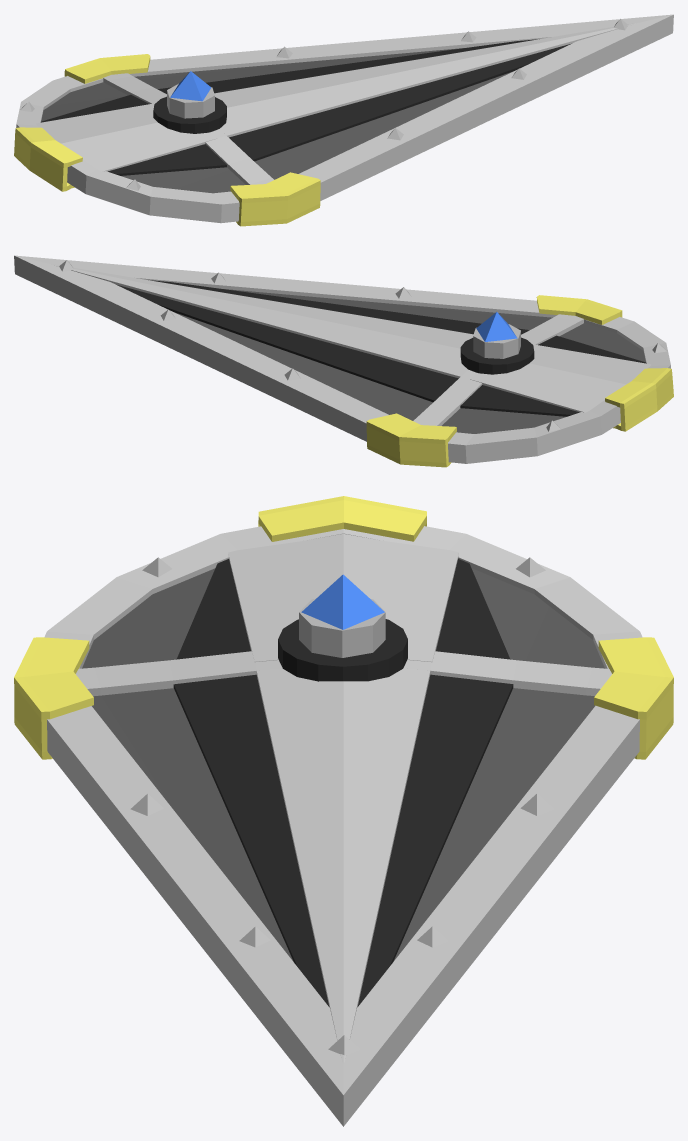
File: Shield_3_d_gr.fbx
The picture shows the model from 3 angles, top to bottom: view 1: azimuth 30°, elevation 25°; view 2: azimuth 150°, elevation 25°; view 3: azimuth 270°, elevation 25°; orthographic projection. The views are drawn at different scales.
Visible parts, largest first — view 1: Circle.361, Circle.357, Circle.365, Circle.362, Circle.367, Circle.366, Circle.358, Circle.368, Circle.360, Circle.359, Cone.458; view 2: Circle.361, Circle.357, Circle.365, Circle.362, Circle.368, Circle.366, Circle.358, Circle.367, Circle.360, Circle.359, Cone.458; view 3: Circle.361, Circle.357, Circle.365, Circle.362, Circle.358, Circle.368, Circle.367, Circle.366, Circle.360, Circle.359, Cone.458.
Part boxes in pixels (bbox=[...]): Circle.361: bbox=[16, 14, 673, 223]; Circle.357: bbox=[36, 23, 636, 171]; Circle.365: bbox=[40, 39, 571, 175]; Circle.362: bbox=[41, 48, 513, 193]; Circle.367: bbox=[230, 172, 320, 226]; Circle.366: bbox=[14, 127, 82, 191]; Circle.358: bbox=[103, 73, 273, 184]; Circle.368: bbox=[64, 54, 150, 83]; Circle.360: bbox=[153, 96, 226, 133]; Circle.359: bbox=[167, 83, 214, 118]; Cone.458: bbox=[170, 71, 211, 101]; Circle.361: bbox=[14, 255, 670, 463]; Circle.357: bbox=[51, 264, 650, 412]; Circle.365: bbox=[116, 280, 646, 416]; Circle.362: bbox=[174, 289, 645, 433]; Circle.368: bbox=[366, 413, 456, 467]; Circle.366: bbox=[605, 368, 673, 431]; Circle.358: bbox=[413, 314, 583, 425]; Circle.367: bbox=[536, 295, 622, 324]; Circle.360: bbox=[460, 337, 534, 374]; Circle.359: bbox=[473, 324, 520, 358]; Cone.458: bbox=[476, 312, 517, 341]; Circle.361: bbox=[44, 526, 642, 1126]; Circle.357: bbox=[228, 534, 458, 1063]; Circle.365: bbox=[173, 559, 513, 1006]; Circle.362: bbox=[82, 568, 604, 961]; Circle.358: bbox=[76, 651, 611, 696]; Circle.368: bbox=[594, 637, 673, 759]; Circle.367: bbox=[14, 637, 93, 759]; Circle.366: bbox=[258, 496, 426, 541]; Circle.360: bbox=[278, 619, 407, 681]; Circle.359: bbox=[299, 598, 385, 657]; Cone.458: bbox=[301, 574, 384, 629].
Bounding box in the file's own units: 150 × 24.67 × 76.07.
